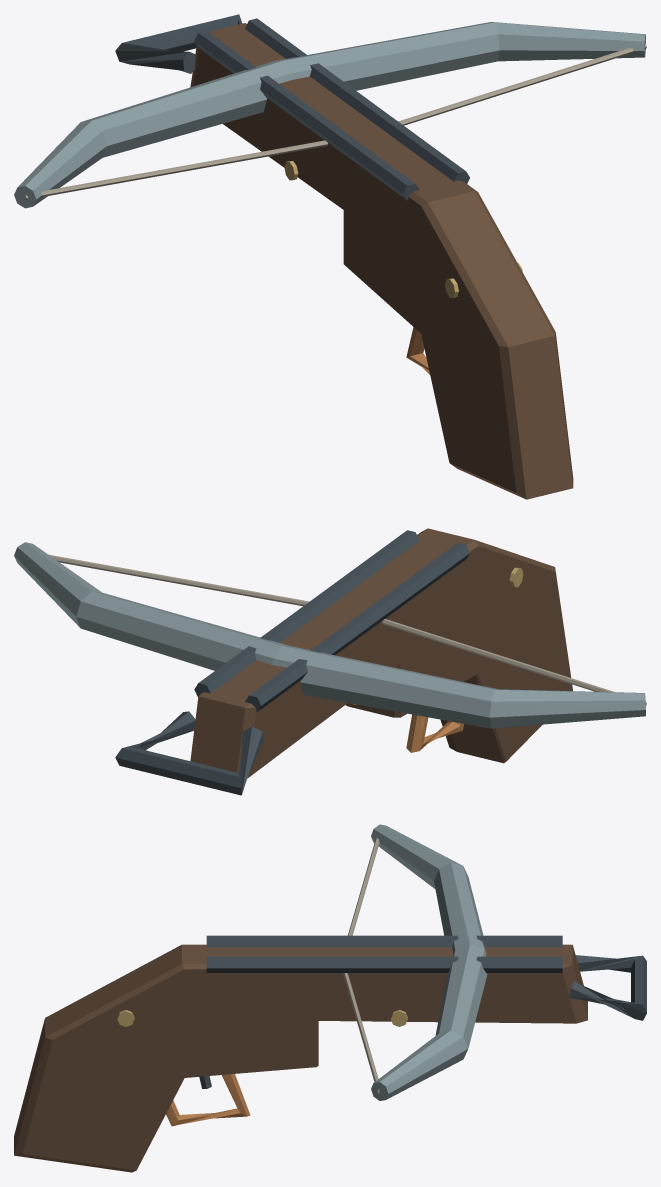
The model's file is AEW_Crossbow_GateArbalest.fbx.
3 renders of one model, top to bottom at view 1: azimuth 30°, elevation 25°; view 2: azimuth 150°, elevation 25°; view 3: azimuth 270°, elevation 25°, orthographic. The views are drawn at different scales.
Parts seen in each view (by area): view 1: AEW_Crossbow_GateArbalest; view 2: AEW_Crossbow_GateArbalest; view 3: AEW_Crossbow_GateArbalest.
Boxes of the visible parts, <box> form: AEW_Crossbow_GateArbalest: <box>14,14,646,499</box>; AEW_Crossbow_GateArbalest: <box>14,528,646,795</box>; AEW_Crossbow_GateArbalest: <box>14,824,646,1172</box>.
Bounding box in the file's own units: 0.9989 × 0.388 × 1.02.
